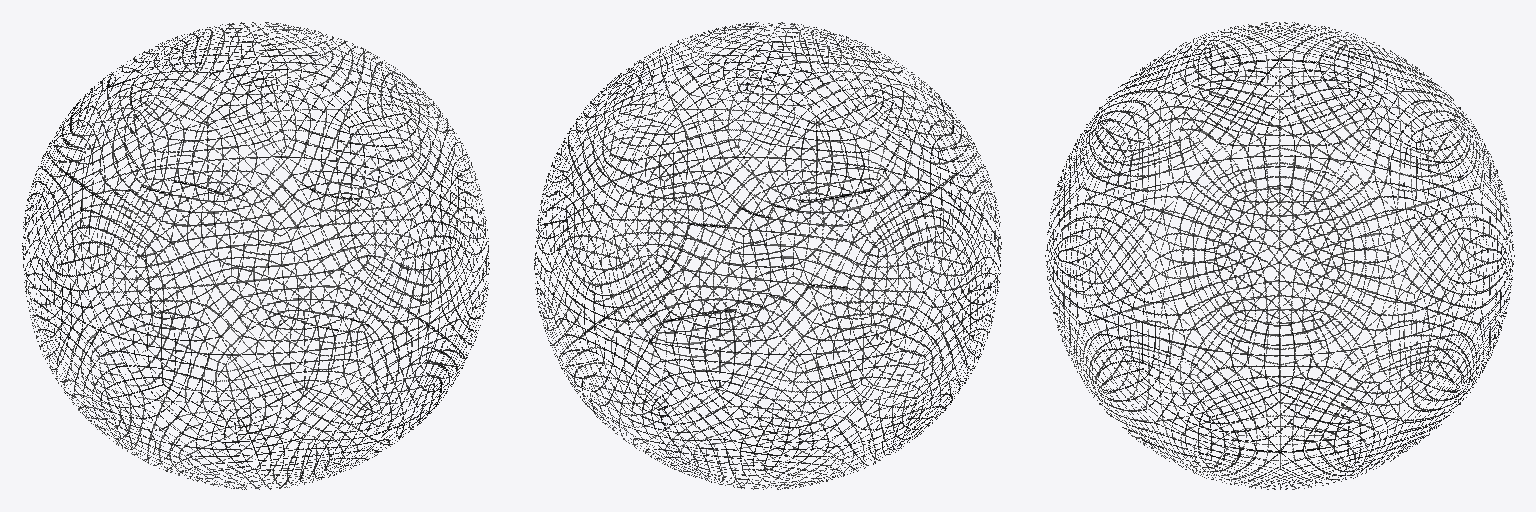
The picture shows the model from 3 angles: view 1: azimuth 30°, elevation 25°; view 2: azimuth 150°, elevation 25°; view 3: azimuth 270°, elevation 25°; orthographic projection.
Visible parts, largest first — view 1: Icosphere; view 2: Icosphere; view 3: Icosphere.
Part boxes in pixels (x1,y1,x2,y2): Icosphere: (22,22,489,489); Icosphere: (534,22,1001,489); Icosphere: (1045,22,1514,489).
Size of the model in its own units: 1.85 by 1.86 by 1.86.
Materials: 1 (1 with a texture image).